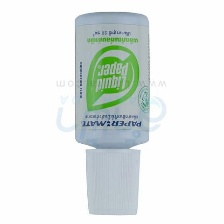correction_fluid: (70, 7, 154, 219)
